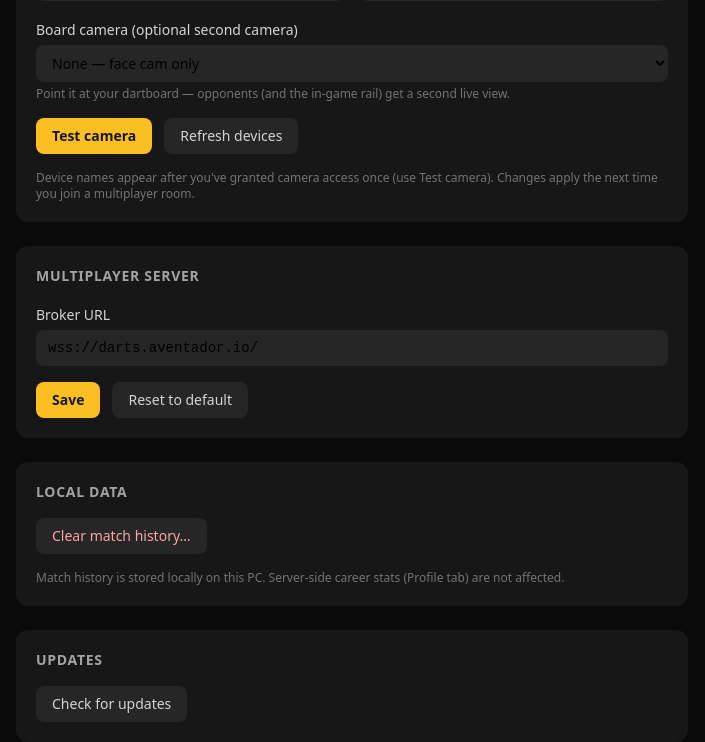
Settings updates › explains update checks need the installed app outside Tauri
(page scrolled)
Click the button "Check for updates" at (112, 704), box [36,686,187,722]
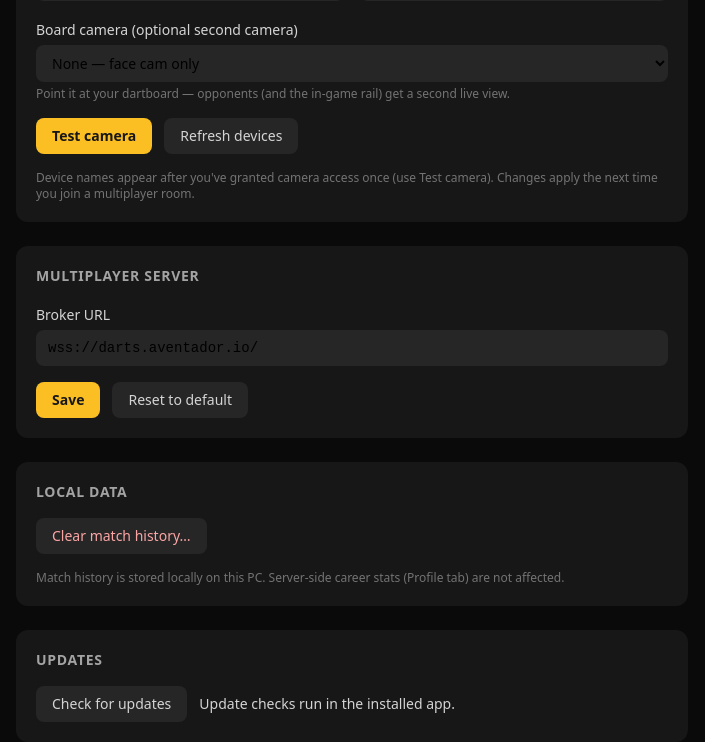
Now the message shows "installed app", box [199,694,455,713]
